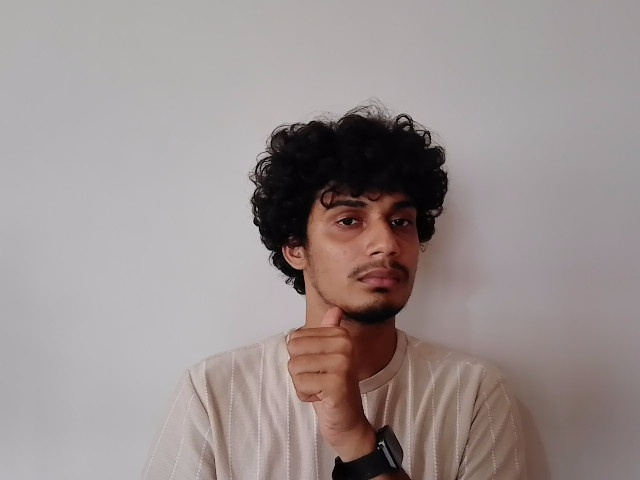not: (288, 293, 424, 396)
